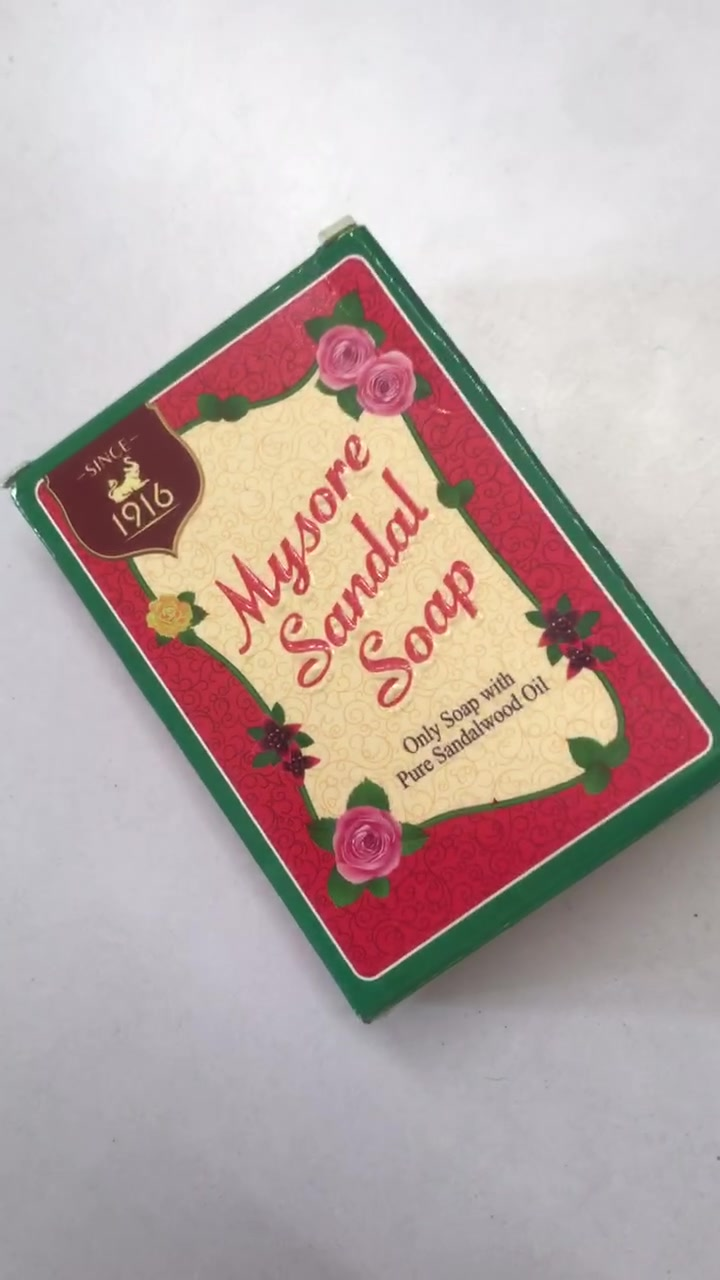mysore sandal soap: (12, 230, 720, 1030)
